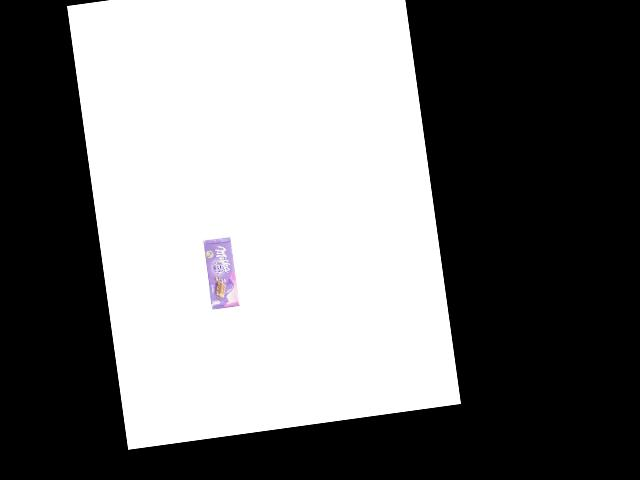chocolate: (201, 236, 240, 309)
